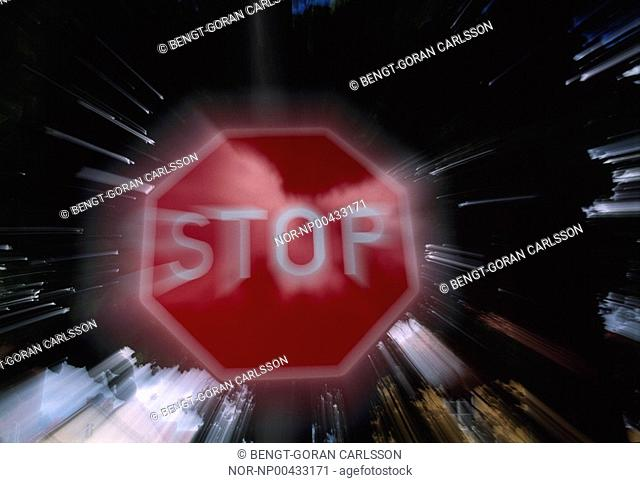stop: (129, 126, 427, 385), (139, 134, 403, 363), (151, 167, 413, 372), (147, 144, 389, 365), (256, 125, 421, 381), (254, 132, 422, 368)
